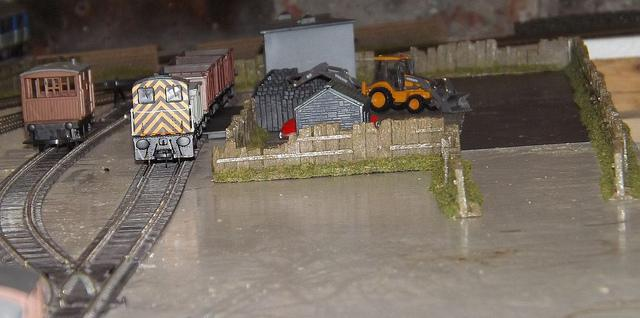Train: (133, 45, 237, 164), (20, 61, 99, 147)
